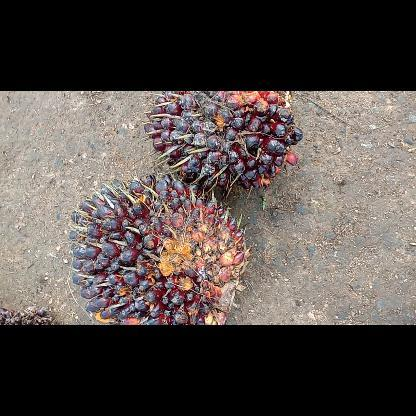Kurang masak: (67, 170, 253, 324), (136, 91, 308, 195)
